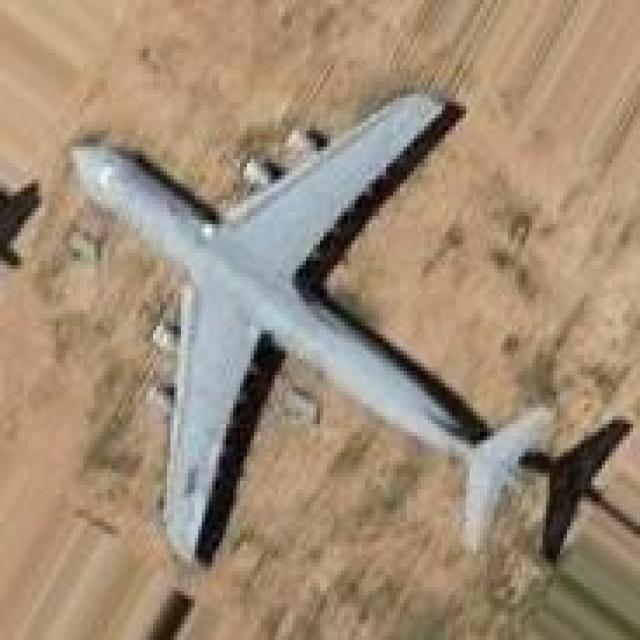C-5_TopDown: (66, 85, 640, 570)
